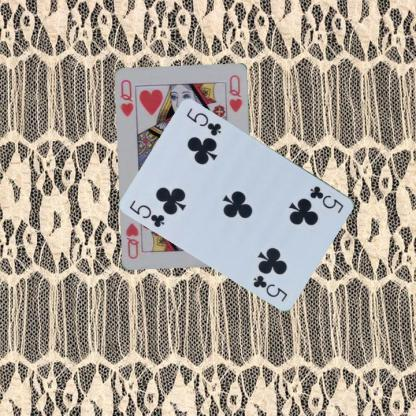5c: (128, 197, 166, 229), (308, 183, 346, 214)
Qh: (118, 77, 135, 118)
